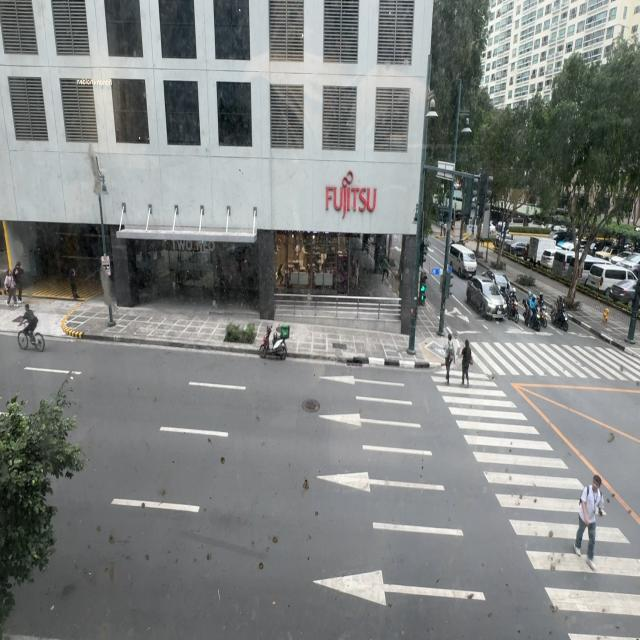crossing: (574, 474, 603, 568), (460, 340, 472, 387), (444, 333, 455, 384)
pedestrain: (6, 266, 18, 306), (14, 261, 24, 303)
